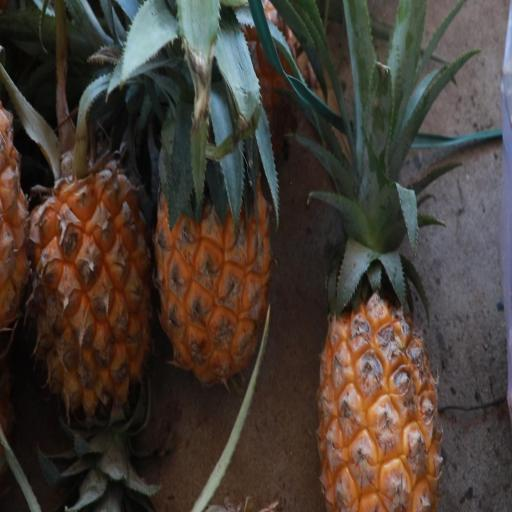Pineapple - v8 v1: (314, 139, 447, 512), (27, 83, 158, 428), (154, 66, 280, 390)
